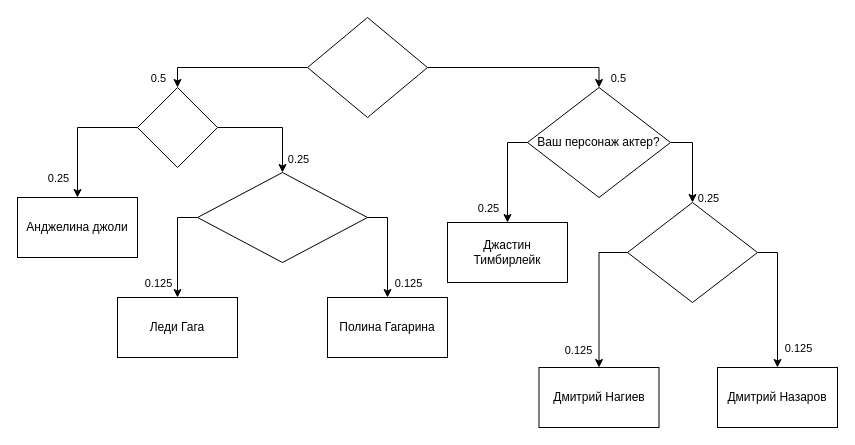
Some shapes in this 855 by 445 pixel diagram are drawn without their labels. Each missing label, with the box of its shape:
Ваш персонаж владеет русским языком?: (196, 172, 368, 262)
Ваш персонаж мужского пола?: (306, 16, 428, 118)
Ваш персонаж певец?: (136, 86, 218, 168)
Есть у вашего персонажа усы?: (626, 202, 758, 302)
